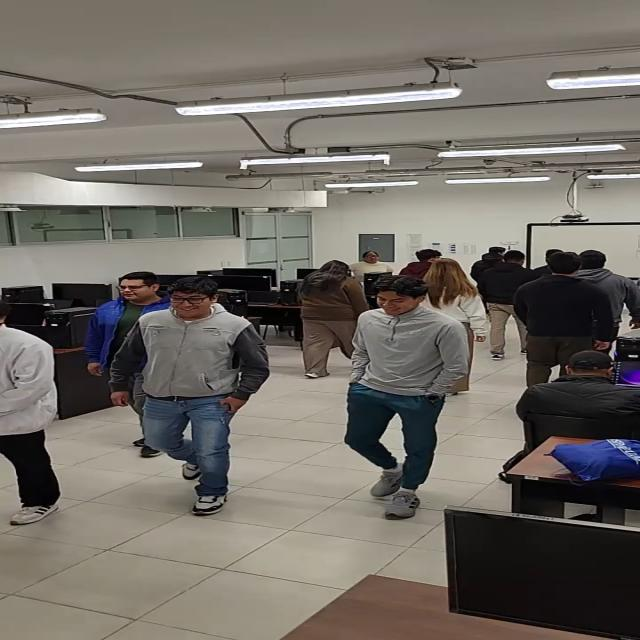Persona: (104, 282, 261, 509), (345, 277, 450, 519), (512, 252, 626, 359), (426, 255, 504, 343), (294, 260, 360, 362), (83, 262, 162, 316), (489, 248, 528, 356), (351, 248, 393, 276)
